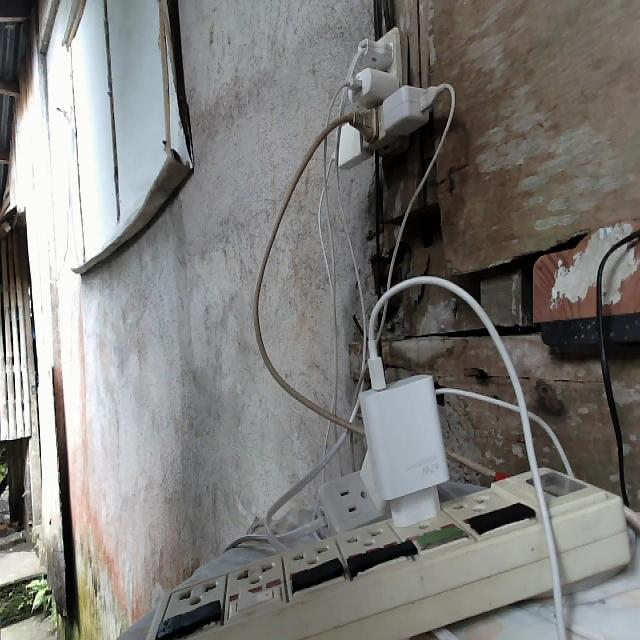-: (327, 22, 434, 170)
